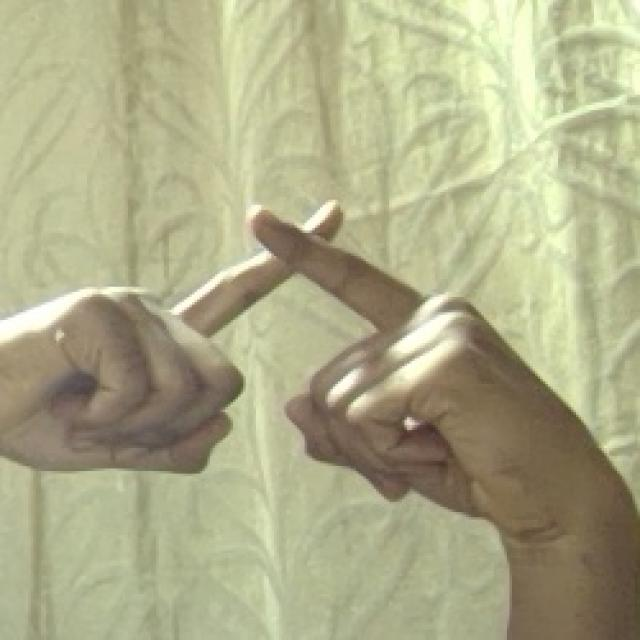Alphabet-X: (2, 189, 580, 526)
